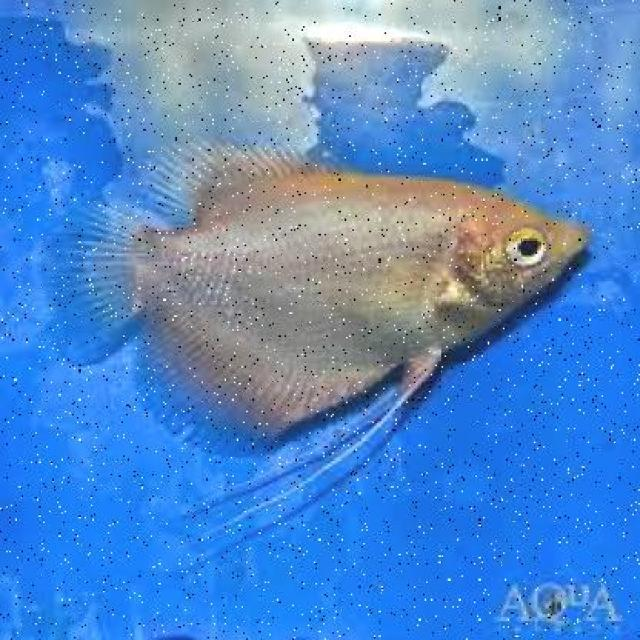gurame: (62, 148, 608, 490)
